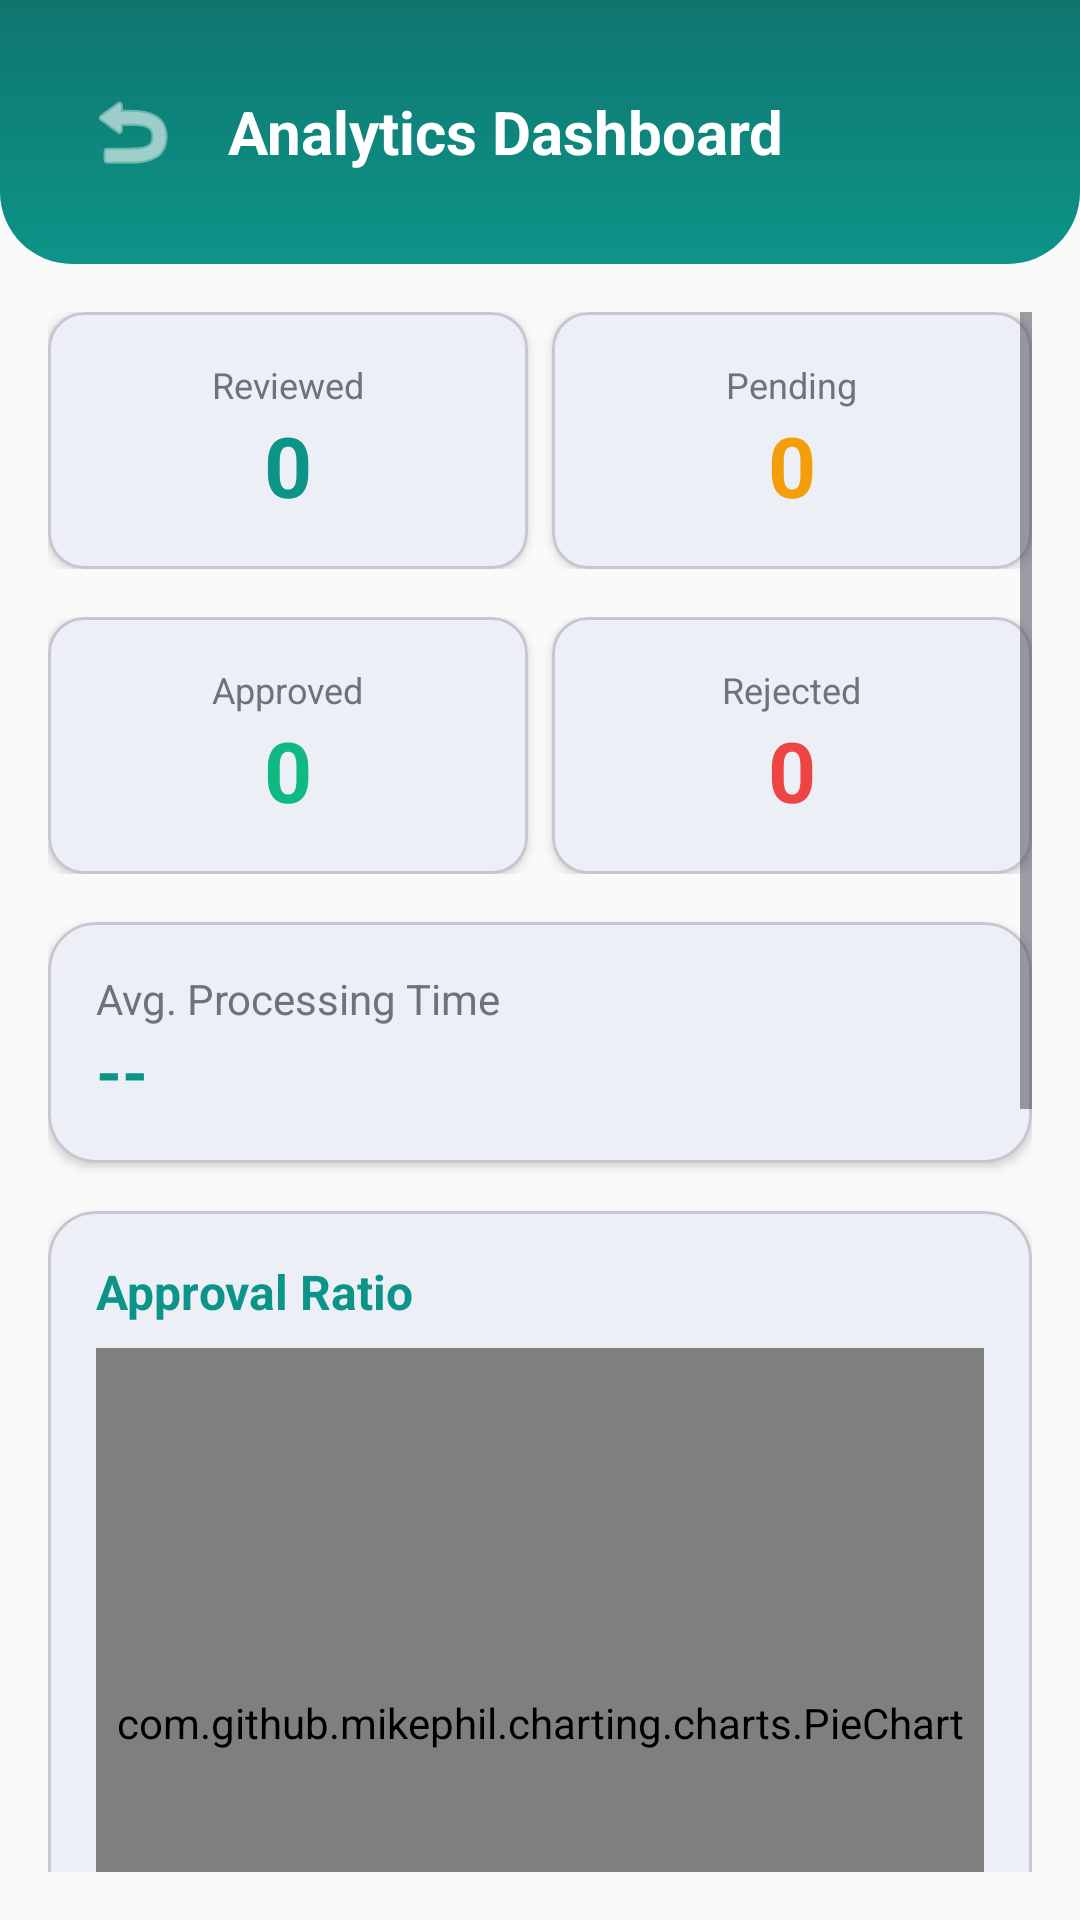

Where to tap for icons on this 1080×1920 app screen, as (x=x, y=y):
revert: (x=133, y=132)
